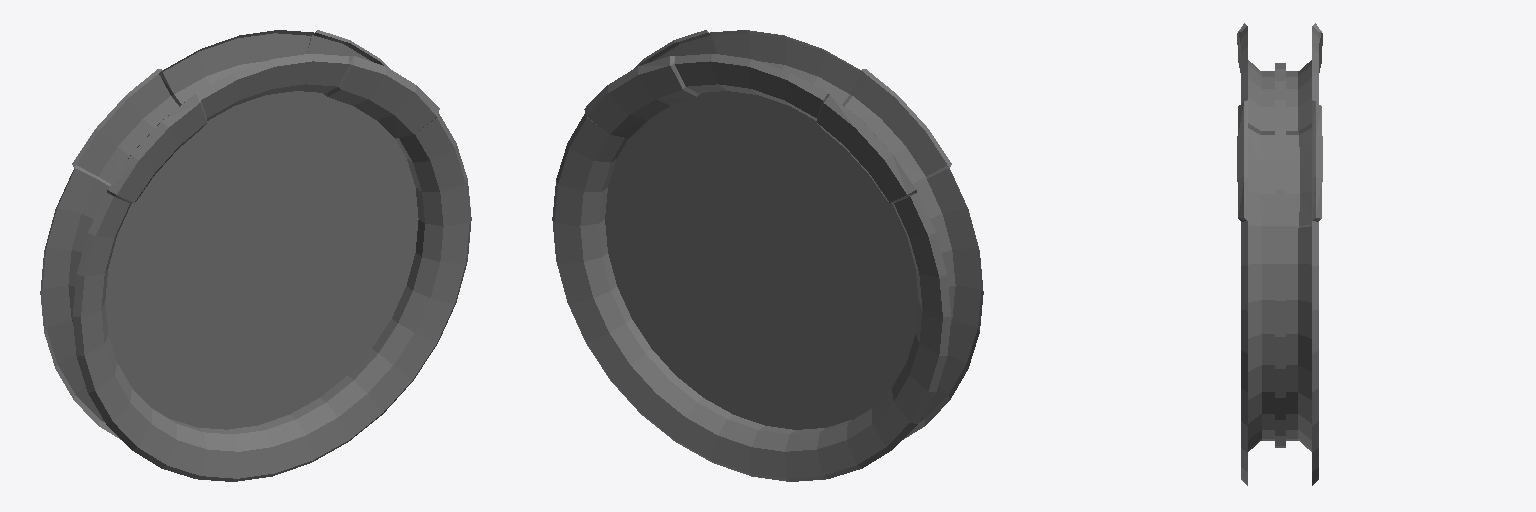
The model's file is Door_Eingang.obj.
3 renders of one model, left to right at view 1: azimuth 30°, elevation 25°; view 2: azimuth 150°, elevation 25°; view 3: azimuth 270°, elevation 25°, orthographic.
Parts seen in each view (by area): view 1: Door Door_Eingang1, Door_Eingang1 Frame; view 2: Door Door_Eingang1, Door_Eingang1 Frame; view 3: Door_Eingang1 Frame, Door Door_Eingang1.
Boxes of the visible parts, box(x1,y1,x2,y2) form: Door Door_Eingang1: box(105, 91, 418, 429); Door_Eingang1 Frame: box(40, 30, 471, 481); Door Door_Eingang1: box(605, 91, 918, 429); Door_Eingang1 Frame: box(552, 30, 983, 481); Door_Eingang1 Frame: box(1237, 23, 1322, 485); Door Door_Eingang1: box(1275, 63, 1285, 447).
Bounding box in the file's own units: 100 × 100 × 18.48.